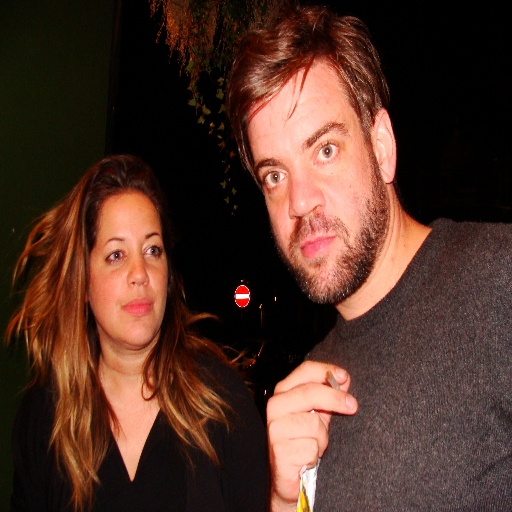hand: (253, 365, 343, 479)
